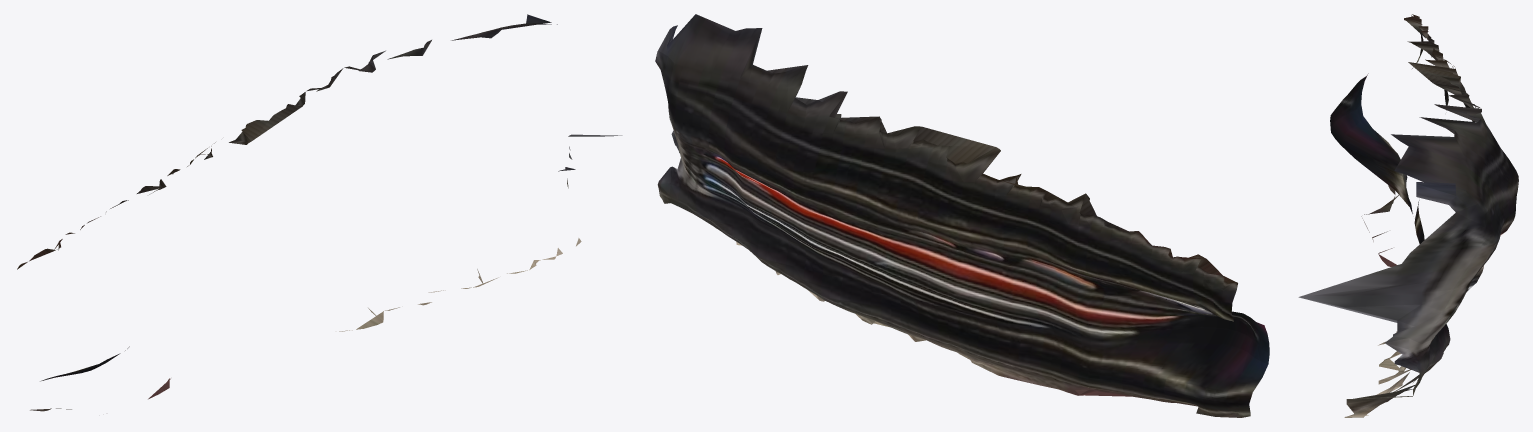
Rendered from observed-surface.glb.
3 renders of one model, left to right at view 1: azimuth 30°, elevation 25°; view 2: azimuth 150°, elevation 25°; view 3: azimuth 270°, elevation 25°, orthographic. The views are drawn at different scales.
Parts seen in each view (by area): view 1: geometry_0; view 2: geometry_0; view 3: geometry_0.
Boxes of the visible parts, x1,y1,x2,y2 form: geometry_0: (17,14,622,411); geometry_0: (655,14,1269,417); geometry_0: (1298,14,1518,417).
Bounding box in the file's own units: 0.8777 × 0.4004 × 0.2508.
Materials: 1 (1 with a texture image).
